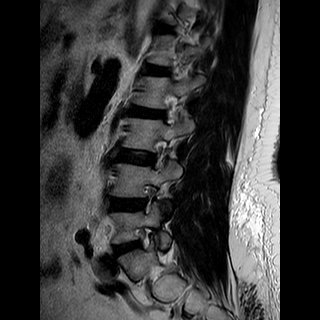LFS0: (127, 223, 162, 257), (143, 135, 172, 174)
LFS1: (135, 180, 162, 219)
